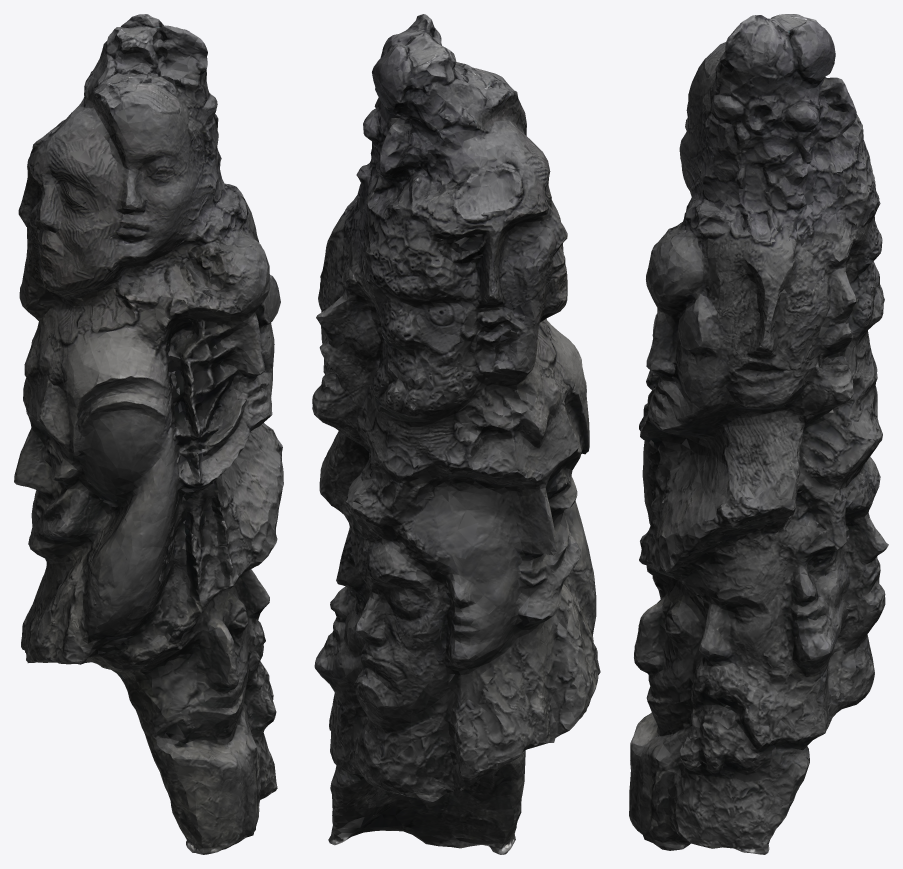
File: heads.glb
3 renders of one model, left to right at view 1: azimuth 30°, elevation 25°; view 2: azimuth 150°, elevation 25°; view 3: azimuth 270°, elevation 25°, orthographic. The views are drawn at different scales.
Visible parts, largest first — view 1: Mesh_0_Part_0; view 2: Mesh_0_Part_0; view 3: Mesh_0_Part_0.
Boxes of the visible parts, x1,y1,x2,y2 form: Mesh_0_Part_0: [14, 14, 283, 854]; Mesh_0_Part_0: [312, 14, 600, 854]; Mesh_0_Part_0: [629, 14, 888, 854].
Bounding box in the file's own units: 4.13 × 12.88 × 3.71.
1 material, 1 textured.
